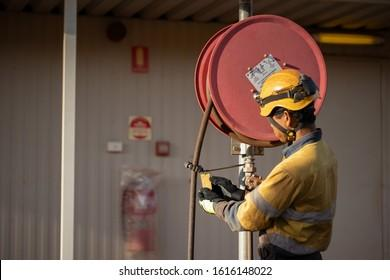gloves: (209, 175, 243, 202), (197, 187, 224, 217)
